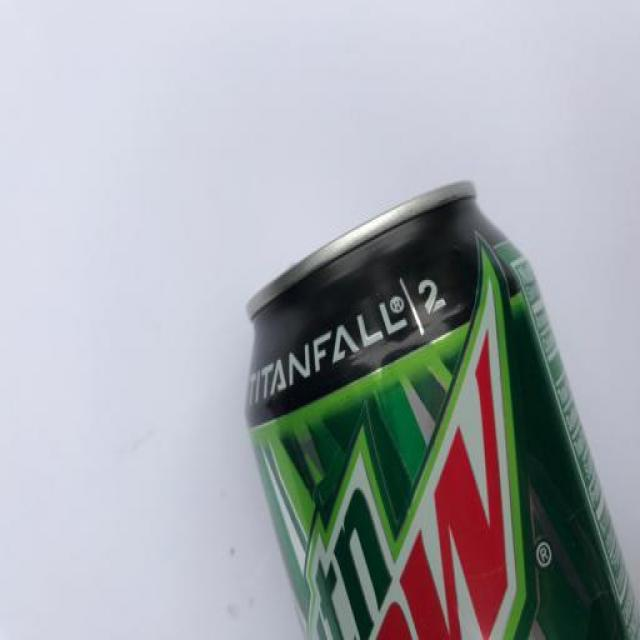metel: (207, 164, 640, 640)
